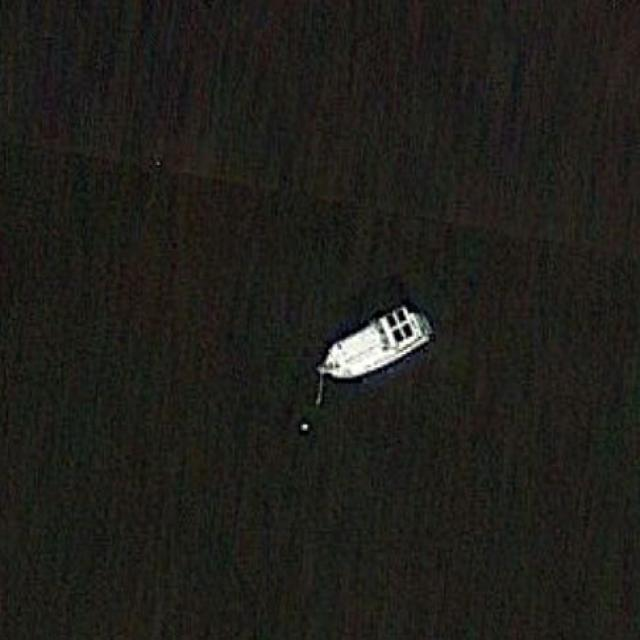ship: (316, 302, 432, 381)
